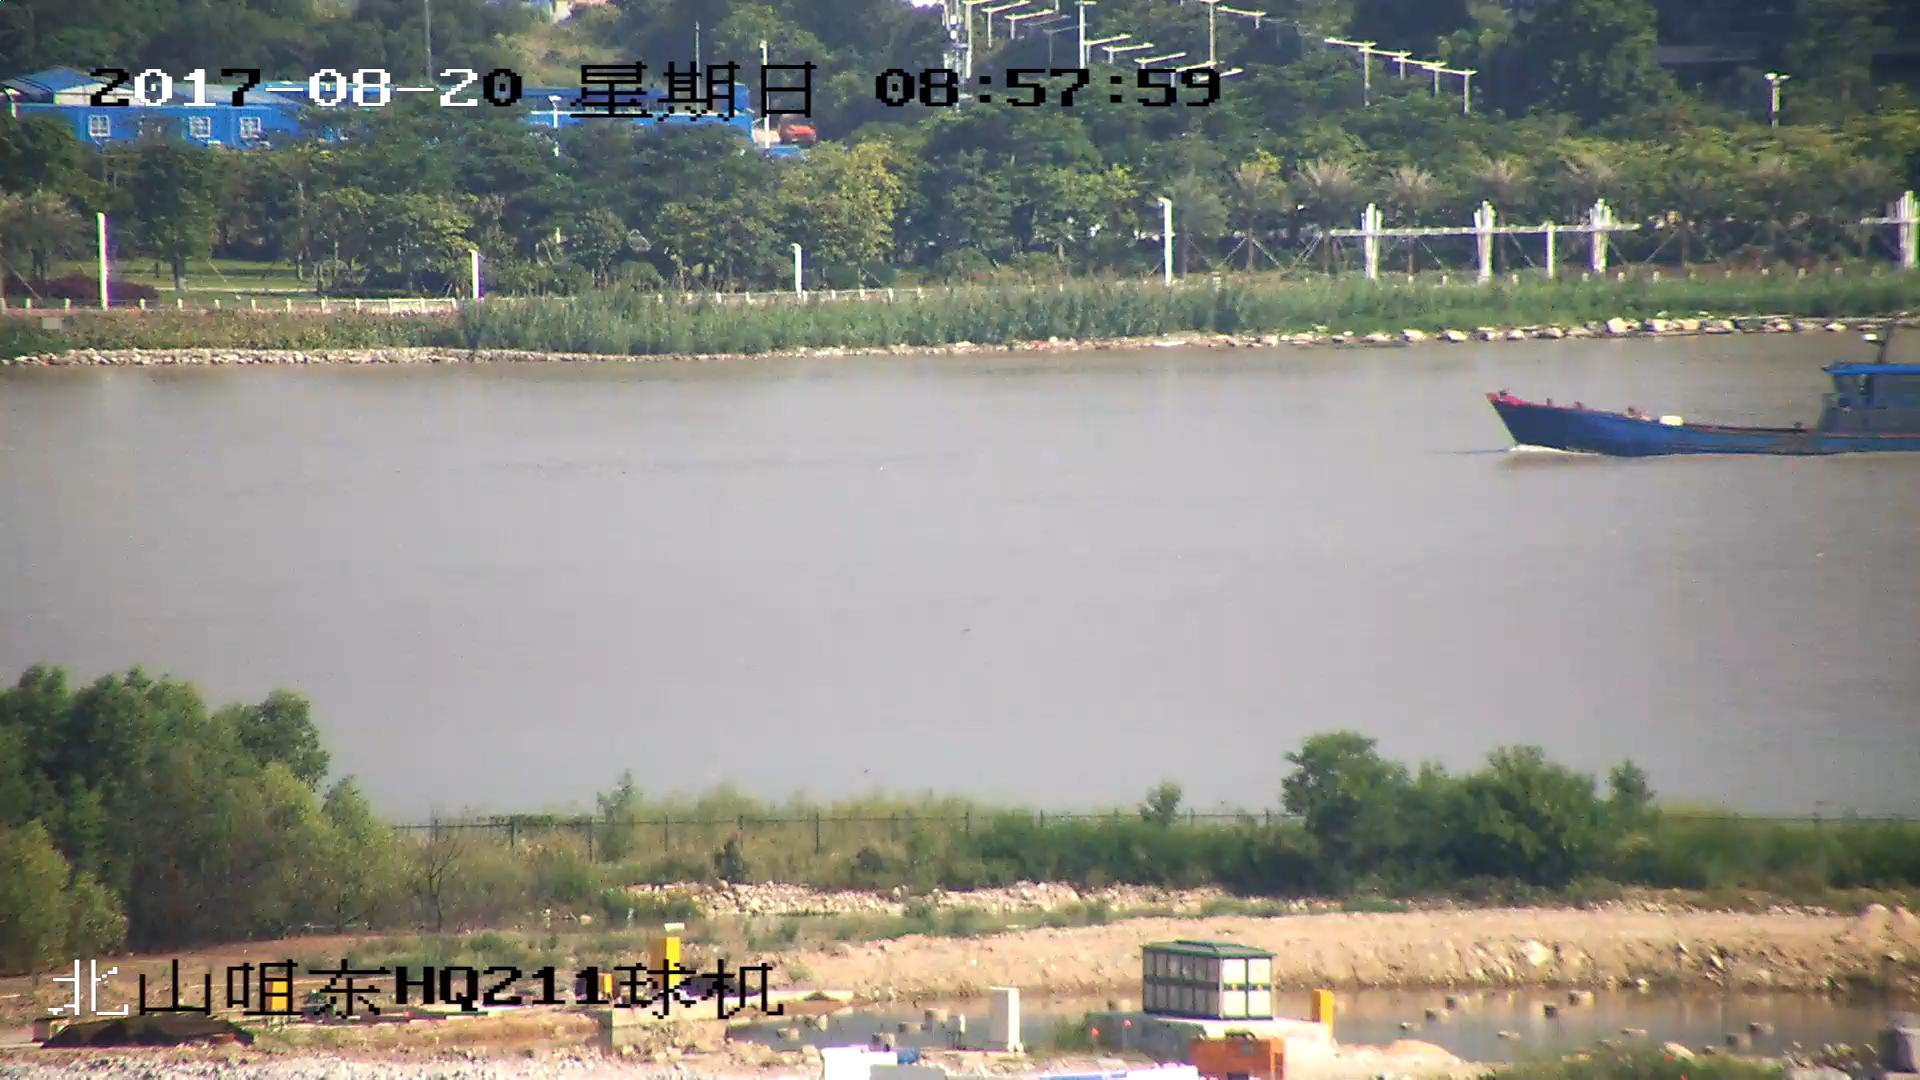fishing boat: (1488, 357, 1920, 460)
